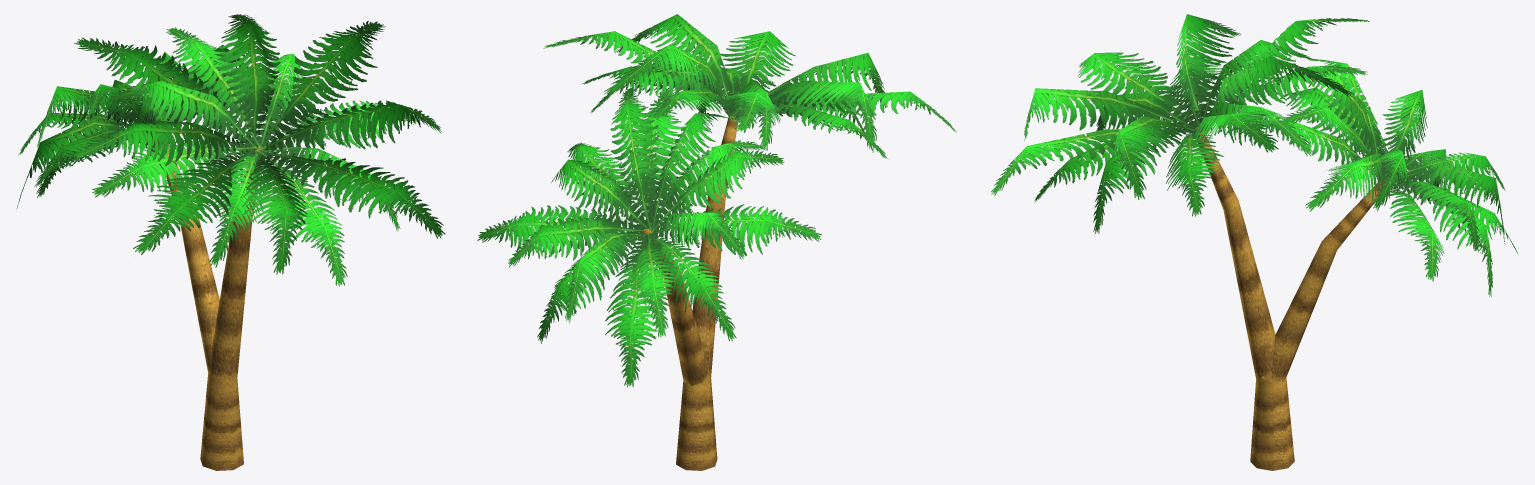
Rendered from palm-04.gltf.
3 renders of one model, left to right at view 1: azimuth 30°, elevation 25°; view 2: azimuth 150°, elevation 25°; view 3: azimuth 270°, elevation 25°, orthographic. The views are drawn at different scales.
Visible parts, largest first — view 1: palm04; view 2: palm04; view 3: palm04.
Part boxes in pixels (bbox=[...]): palm04: bbox=[16, 14, 445, 470]; palm04: bbox=[477, 14, 956, 470]; palm04: bbox=[991, 14, 1518, 470].
Size of the model in its own units: 65.93 by 77.89 by 89.49.
2 materials, 2 textured.
